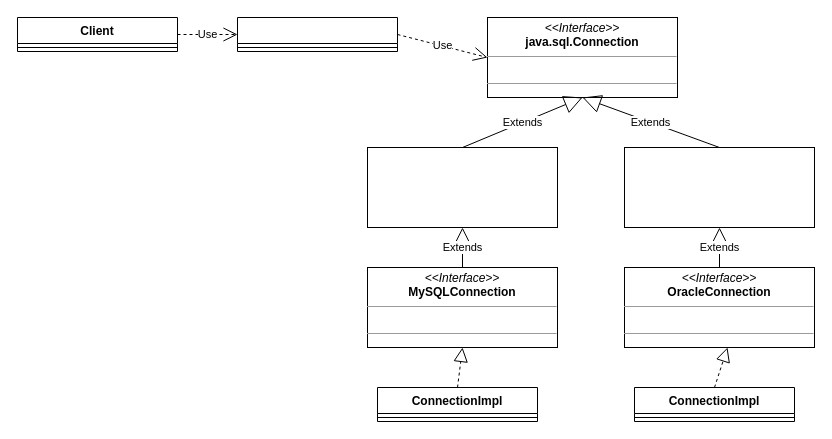
The diagram is 832 pixels wide and 439 high, and some of its shapes have lost their labels. The centre of each missing label's shape, as x and y in pixels:
<<Interface>> com.mysql.jdbc.Connection: the point at 462,187
<<Interface>> com.oracle.jdbc.Connection: the point at 719,187
DriverManager: the point at 317,34
